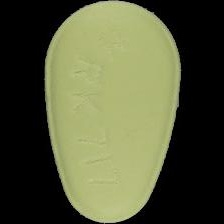63629-3183: (0, 0, 224, 224)
